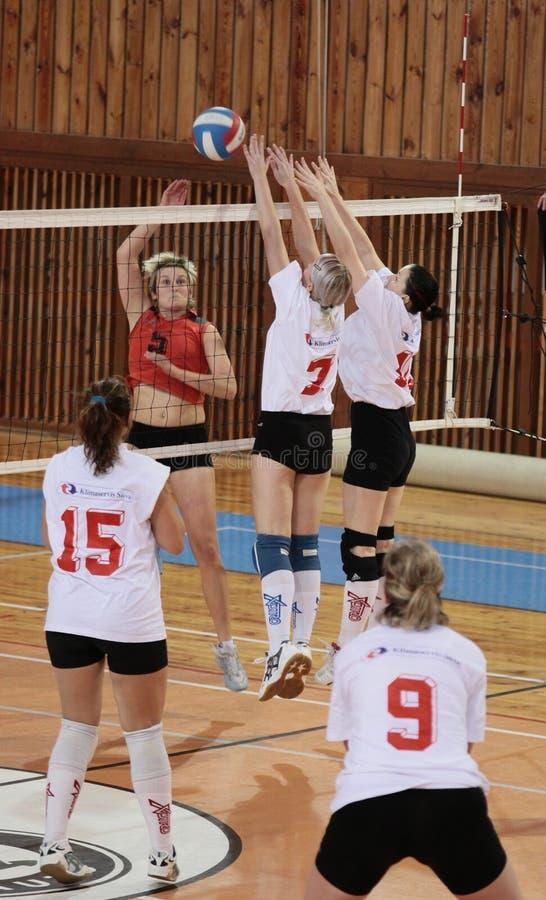ballon_volley: (191, 106, 247, 162)
